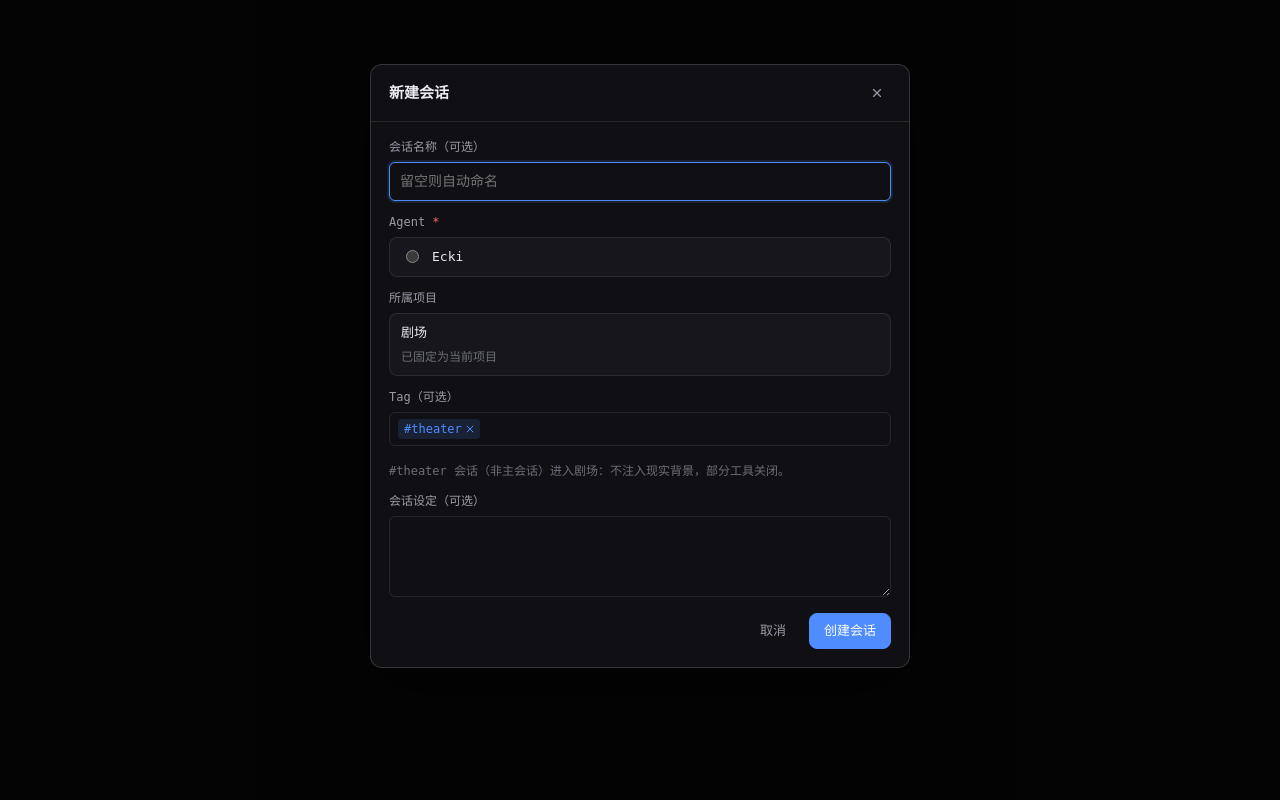
Test case: CreateConversationDialog tags + session prompt › shows the backend tag error body when the server rejects
This screenshot has width=1280, height=800.
Expected: the text "#theater" is shown, [398, 419, 480, 439]
Click the radio button labelled "Ecki" at [412, 256], box [406, 250, 419, 263]
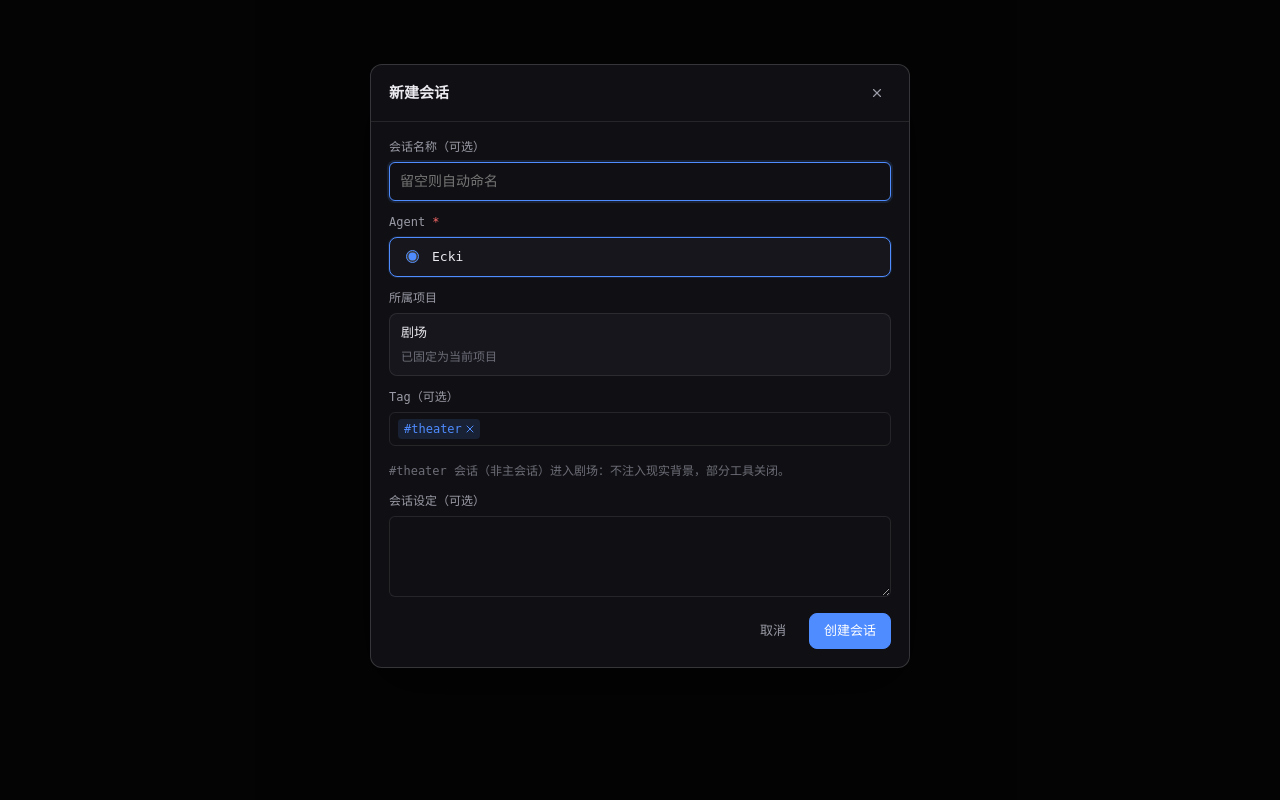
Click the button "创建会话" at [850, 631], box [809, 613, 891, 648]
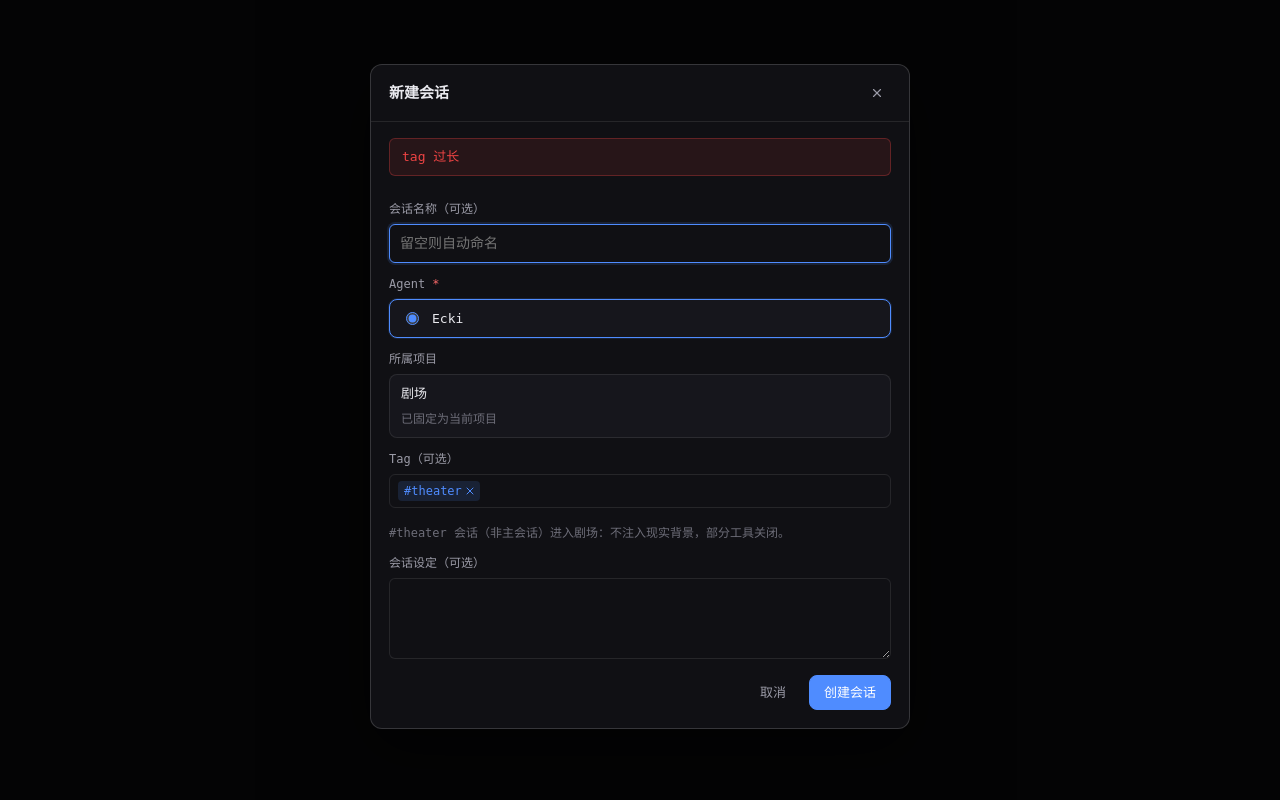
Expected: the text "tag 过长" is shown, [389, 138, 891, 176]
